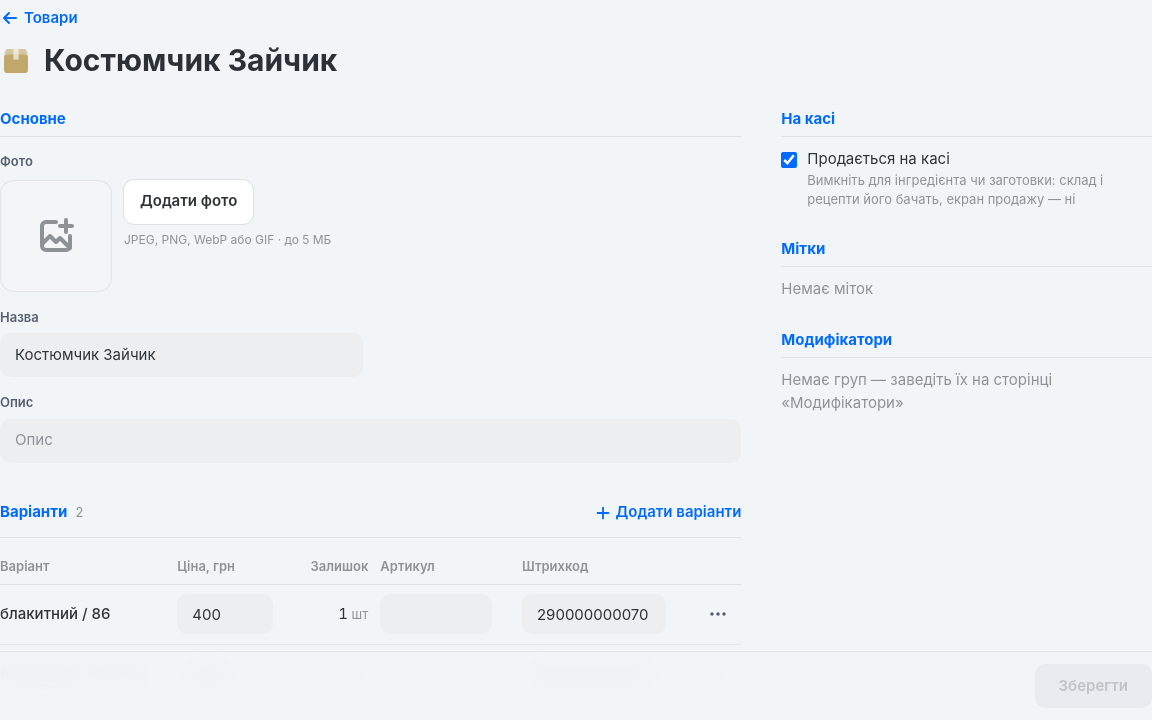
Test: adding sizes and colours to a card › shows the server's own words when an article or barcode is taken, and stays open
expect the button "Зберегти" is shown: met, box [1034,664,1151,708]
Click the button "Додати варіанти".
click(668, 512)  # box [594,494,741,530]
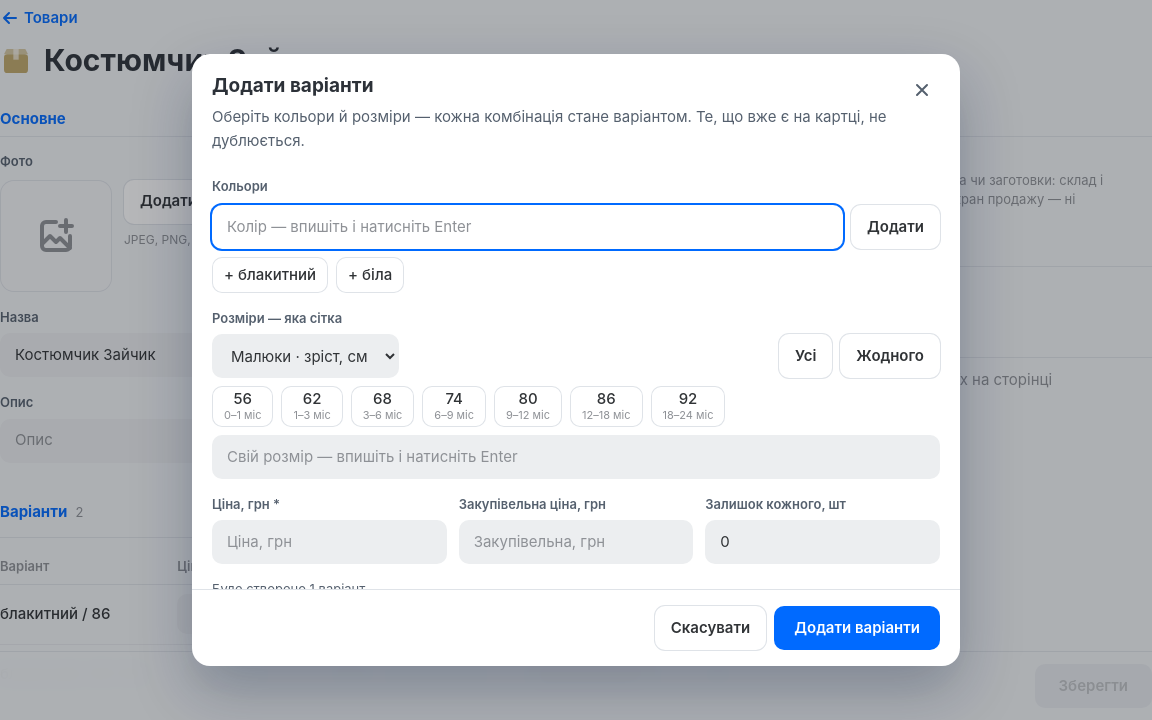
Type "рожевий" into the field named "Новий колір".
click(528, 227); type("рожевий")  # box [212,205,843,249]
Then press Enter
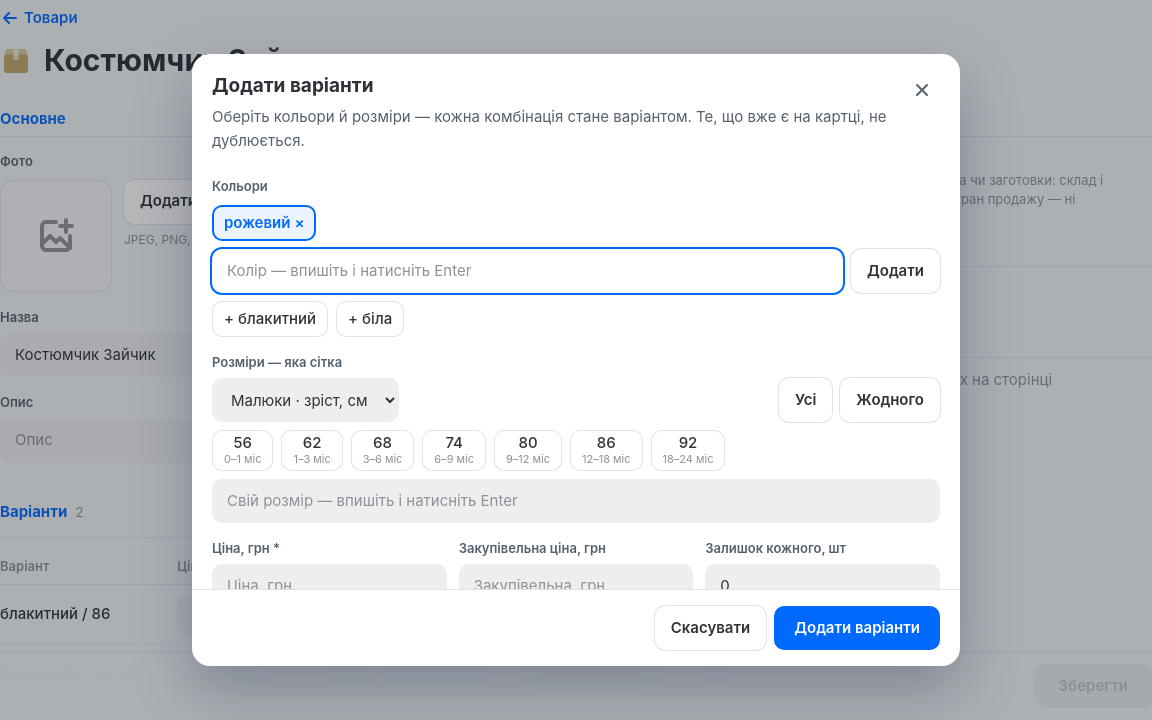
Click the button "86 12–18 міс".
click(606, 451)  # box [570,430,642,471]
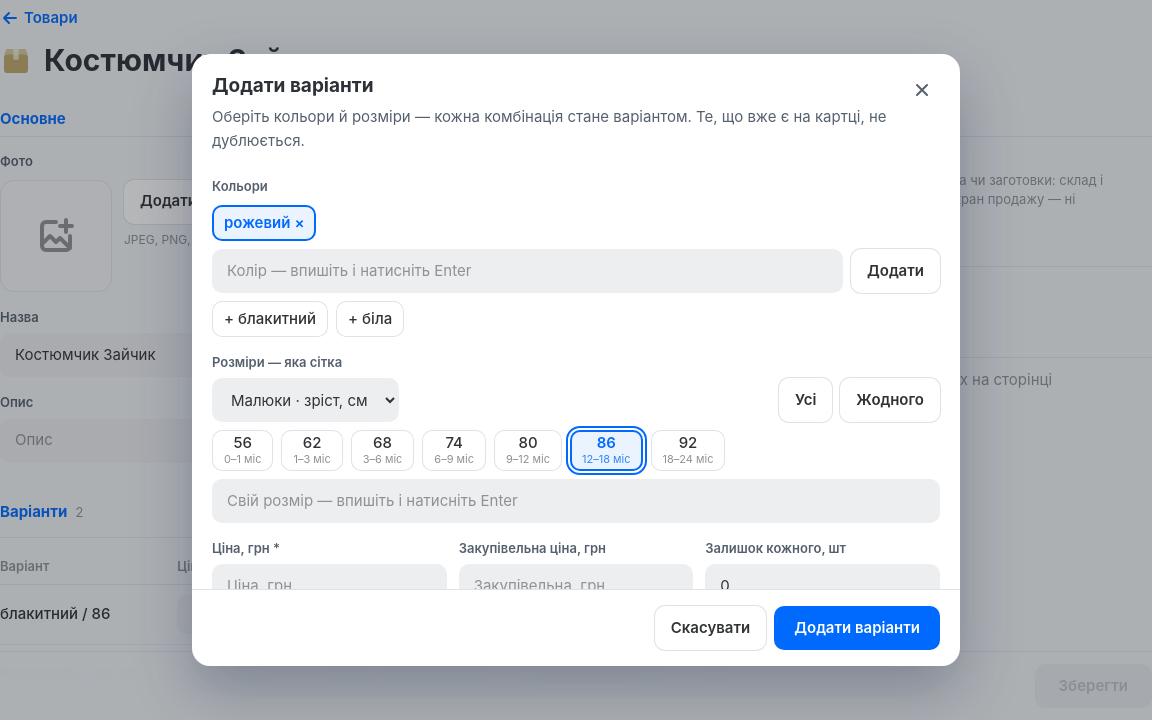
Type "400" into the field with placeholder "Ціна, грн".
click(329, 586); type("400")  # box [212,564,447,608]
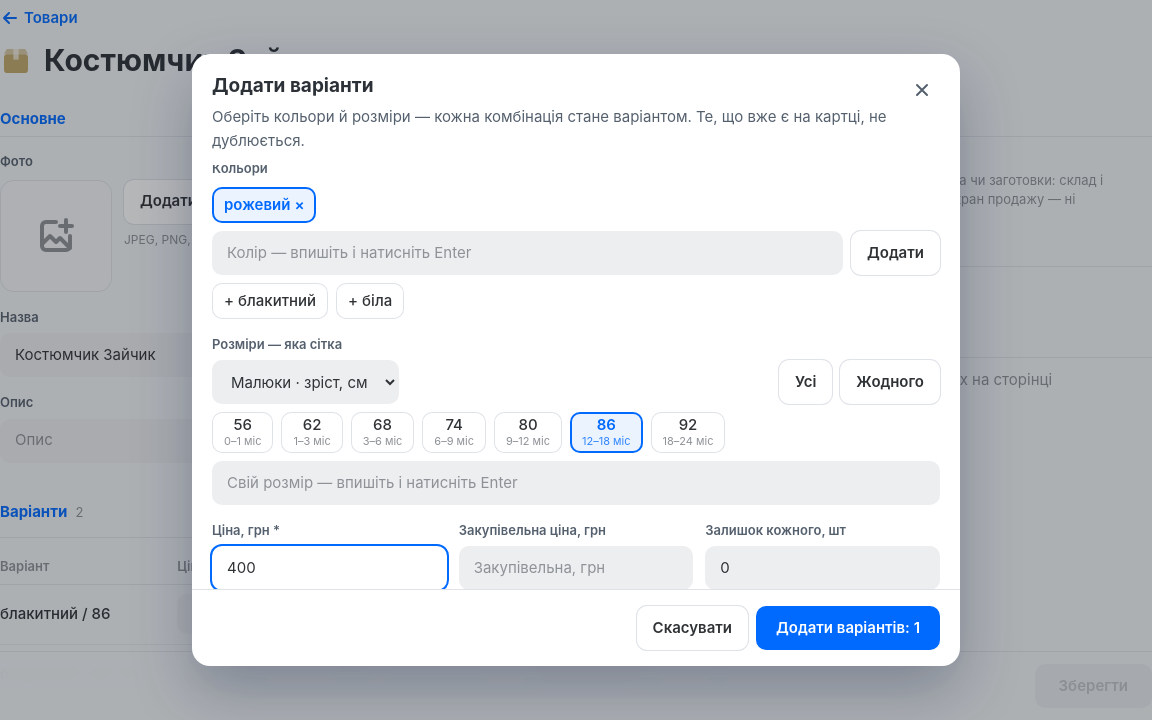
Click the button "Додати варіантів: 1".
click(848, 628)  # box [756,606,940,650]
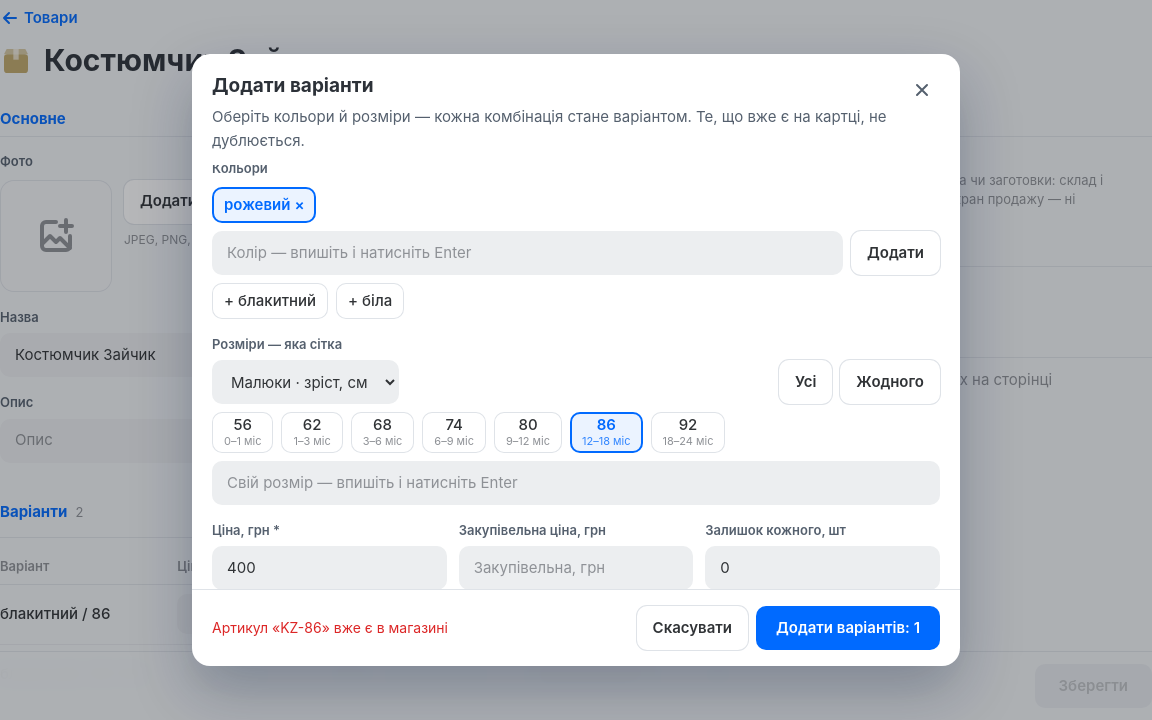
expect the dialog "Додати варіанти" is shown: met, box [192,54,960,666]
expect the text "Артикул «KZ-86» вже є в магазині" is shown: met, box [212,618,448,638]
